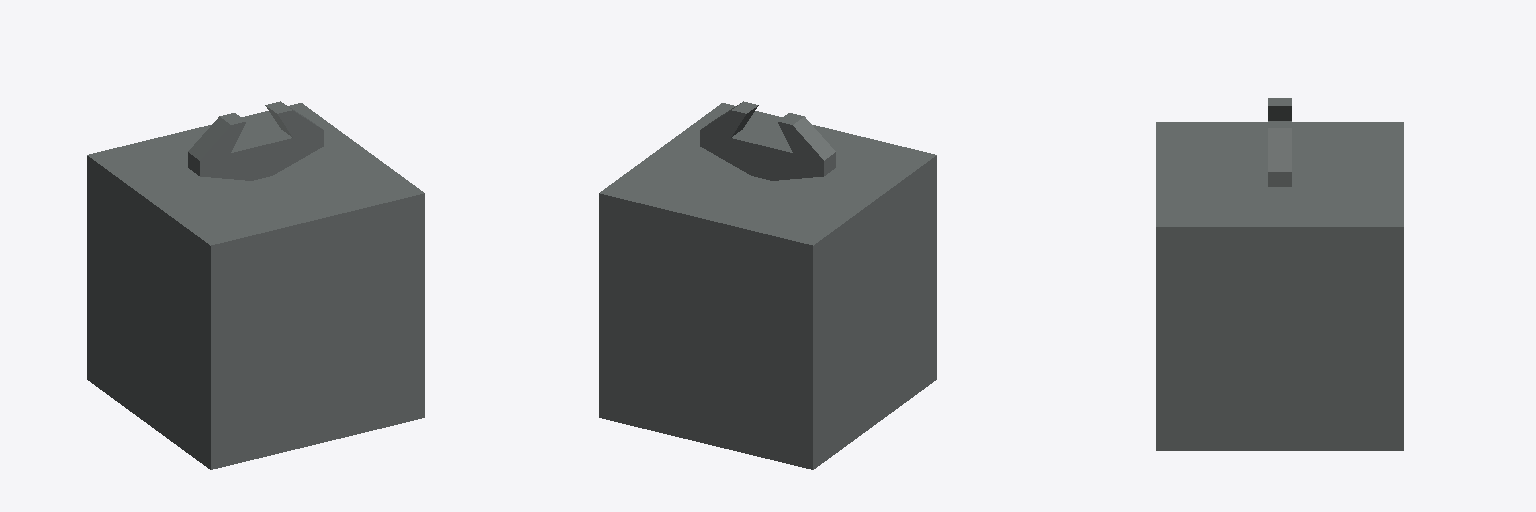
The model's file is Present01.obj.
3 renders of one model, left to right at view 1: azimuth 30°, elevation 25°; view 2: azimuth 150°, elevation 25°; view 3: azimuth 270°, elevation 25°, orthographic.
Parts seen in each view (by area): view 1: Present01; view 2: Present01; view 3: Present01.
Part boxes in pixels (bbox=[...]): Present01: bbox=[87, 101, 424, 469]; Present01: bbox=[599, 101, 936, 469]; Present01: bbox=[1156, 98, 1403, 450].
Size of the model in its own units: 1 by 1.27 by 1.